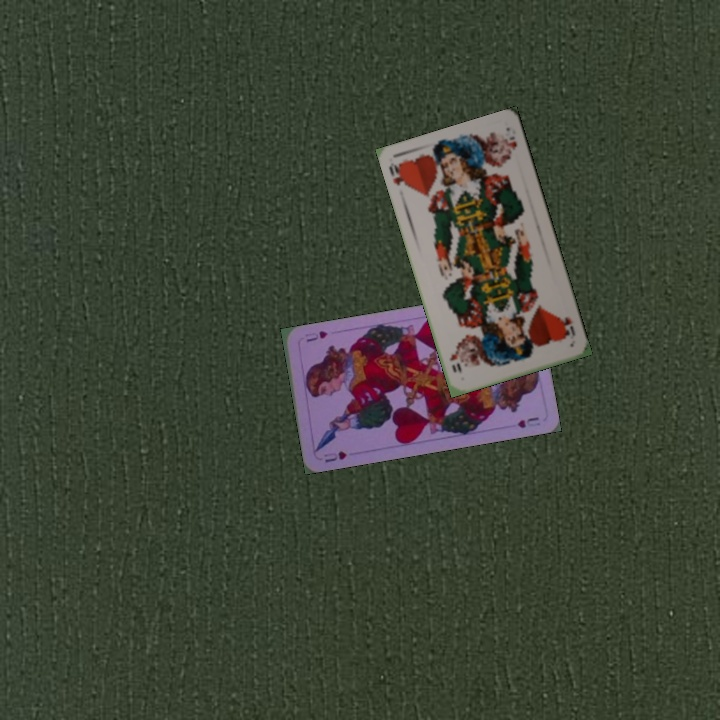HO: (385, 158, 410, 191), (560, 313, 578, 342)
HU: (320, 447, 349, 465)
